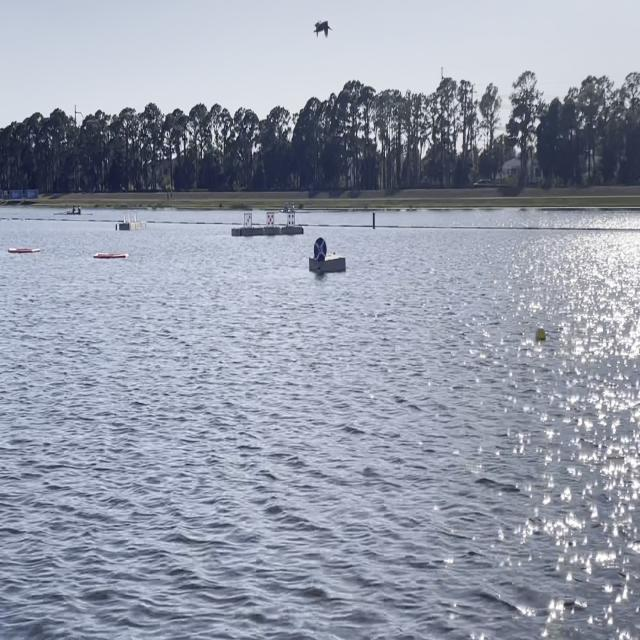buoy: (534, 325, 547, 343)
